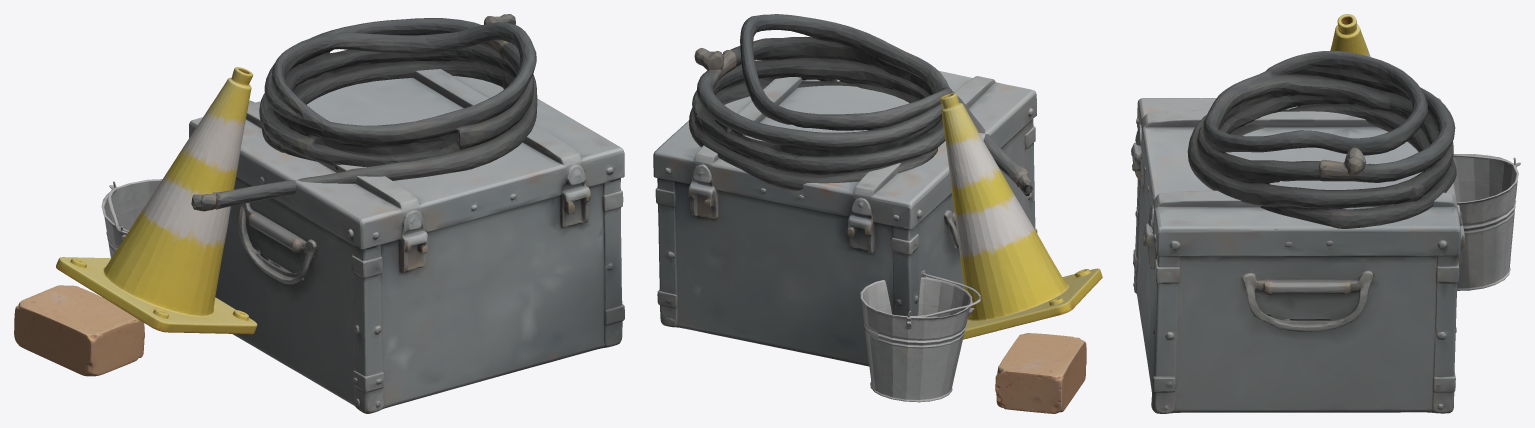
File: sam3d.glb
3 views of the same model, side by side, from view 1: azimuth 30°, elevation 25°; view 2: azimuth 150°, elevation 25°; view 3: azimuth 270°, elevation 25° (orthographic). The views are drawn at different scales.
Parts seen in each view (by area): view 1: object_04, object_03, object_02, object_00, object_01; view 2: object_04, object_03, object_02, object_01, object_00; view 3: object_04, object_03, object_01, object_02.
Part boxes in pixels (x1,y1,x2,y2): object_04: [189, 69, 624, 413]; object_03: [191, 14, 537, 211]; object_02: [56, 67, 257, 334]; object_00: [14, 285, 144, 376]; object_01: [101, 179, 162, 258]; object_04: [653, 59, 1037, 366]; object_03: [689, 14, 1032, 196]; object_02: [940, 93, 1102, 339]; object_01: [860, 270, 981, 402]; object_00: [995, 333, 1086, 413]; object_04: [1131, 98, 1464, 413]; object_03: [1187, 51, 1456, 228]; object_01: [1453, 154, 1520, 290]; object_02: [1330, 14, 1370, 56].
Bounding box in the file's own units: 0.5059 × 0.2943 × 0.3789.
